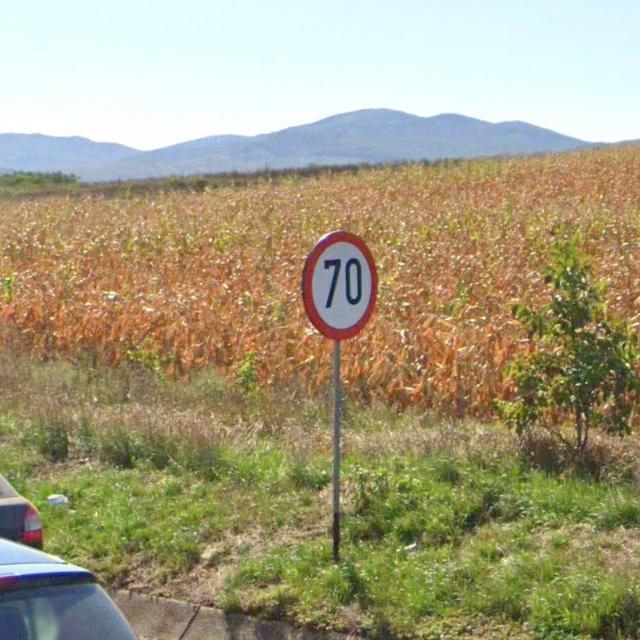forb_speed_over_70: (298, 228, 380, 340)
